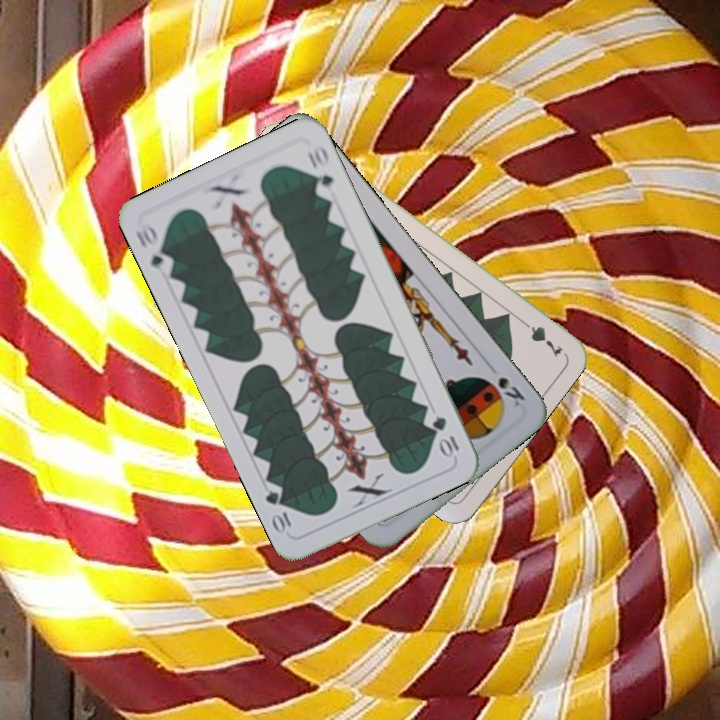G10: (132, 219, 177, 277), (428, 412, 462, 460)
G7: (515, 314, 566, 360)
SK: (482, 373, 528, 411)
